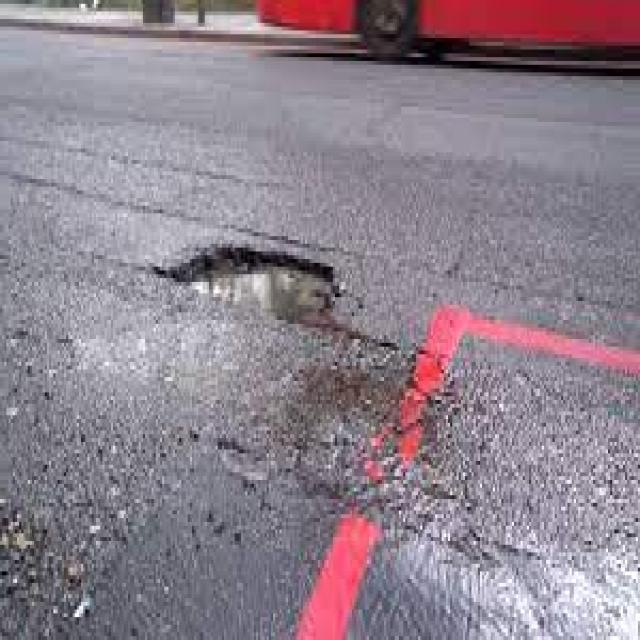Pothole: (155, 245, 339, 328)
